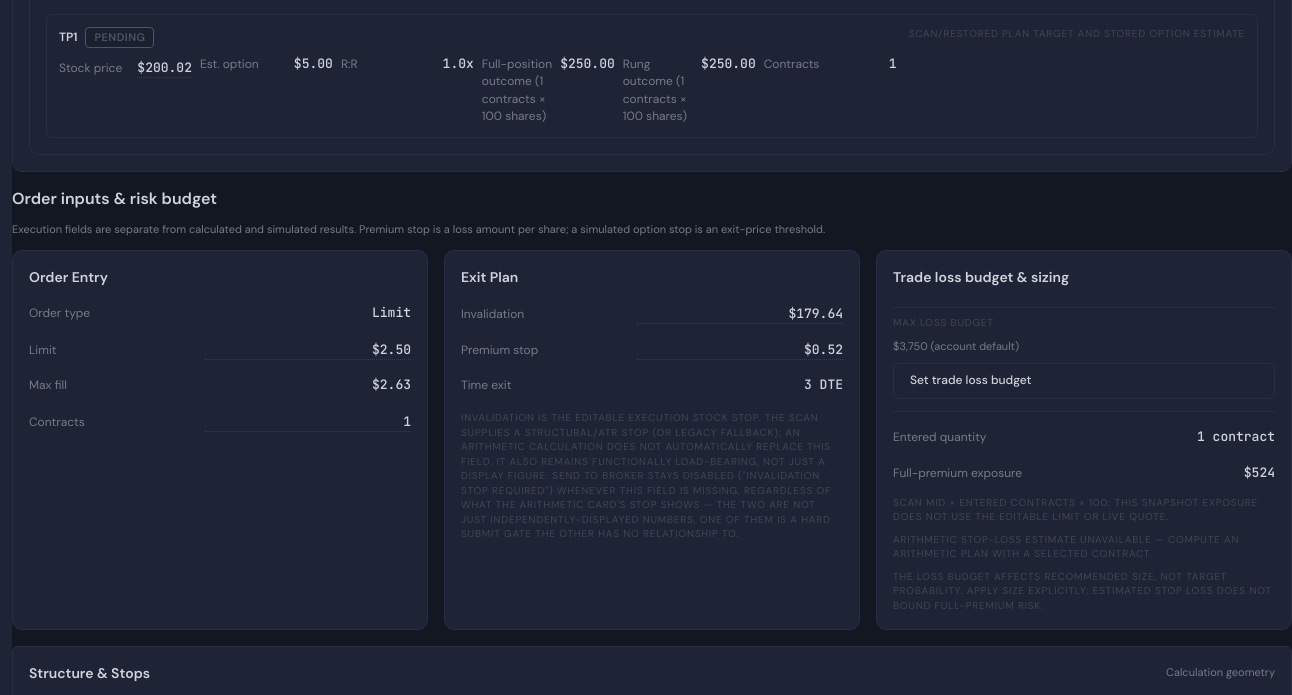
Test: TradeCard › a click into a Premium stop seeded BELOW the field minimum is not an edit either
(page scrolled)
Click the button named "Edit Premium stop" at {"x": 740, "y": 349}, box left=637, top=338, right=843, bottom=360
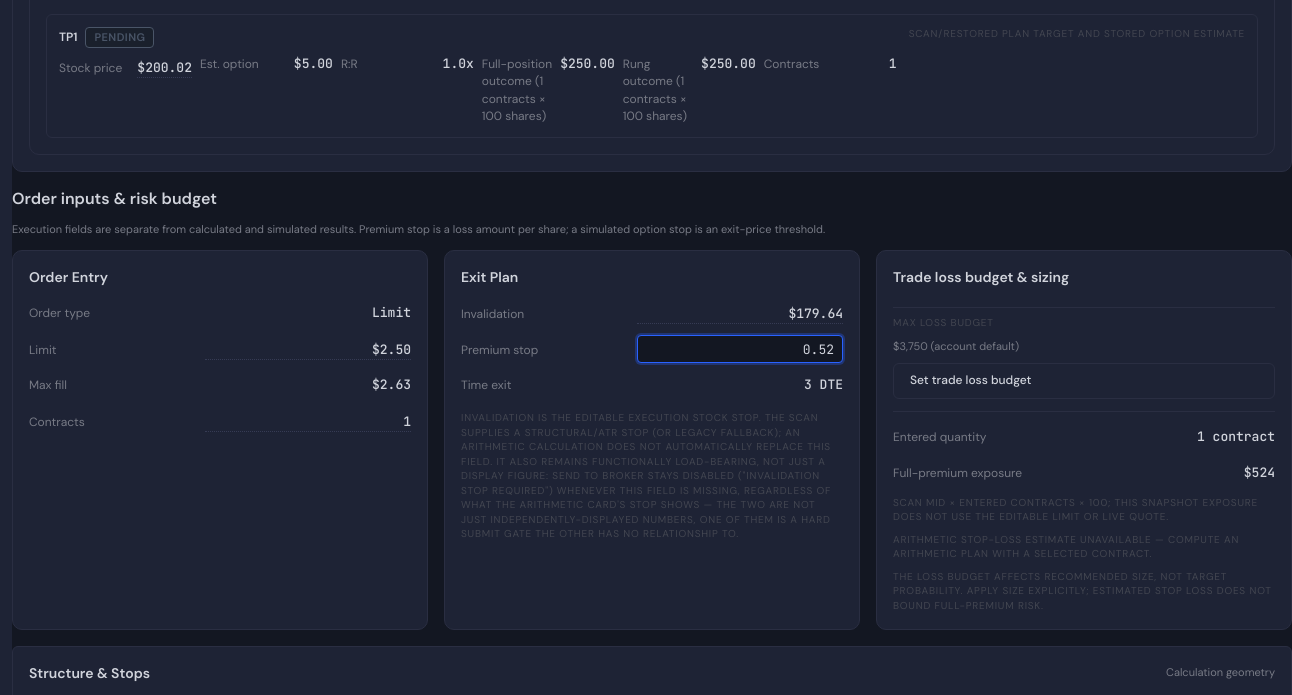
Leave the field named "Edit Premium stop", box left=637, top=335, right=843, bottom=363
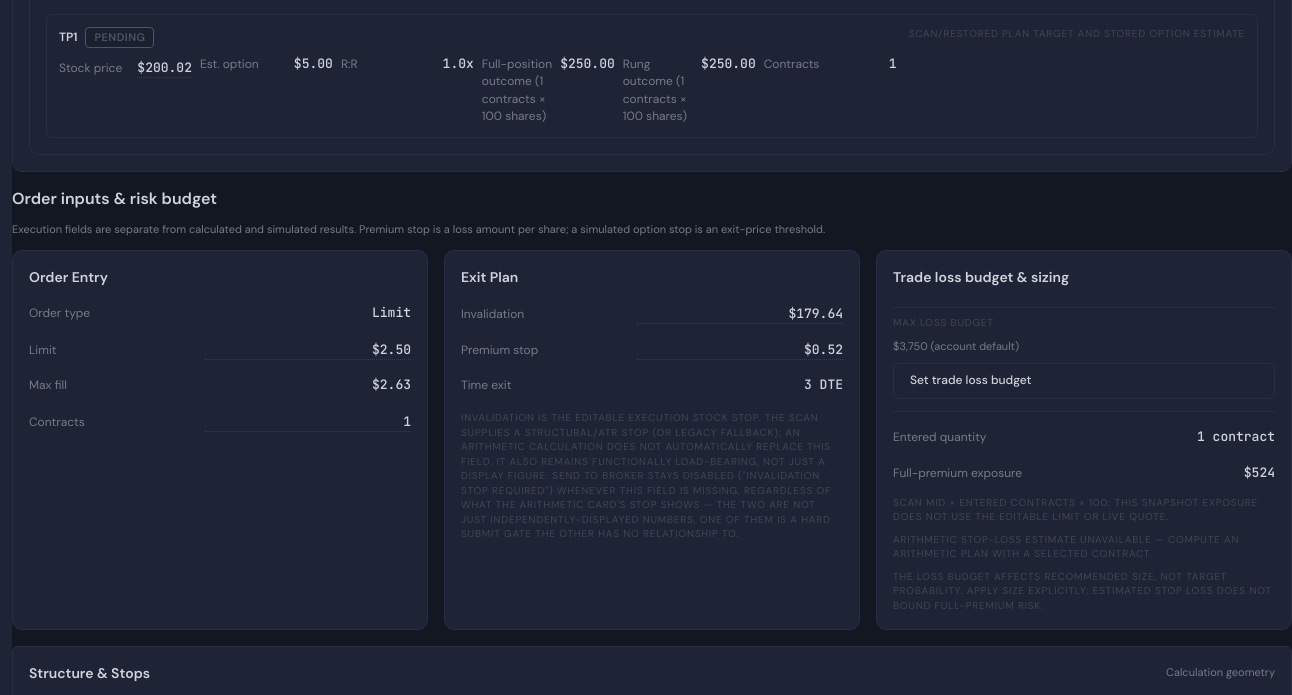
Expected: the text "kept the previous value" is not shown
Click the button named "Edit Premium stop" at {"x": 740, "y": 349}, box left=637, top=338, right=843, bottom=360
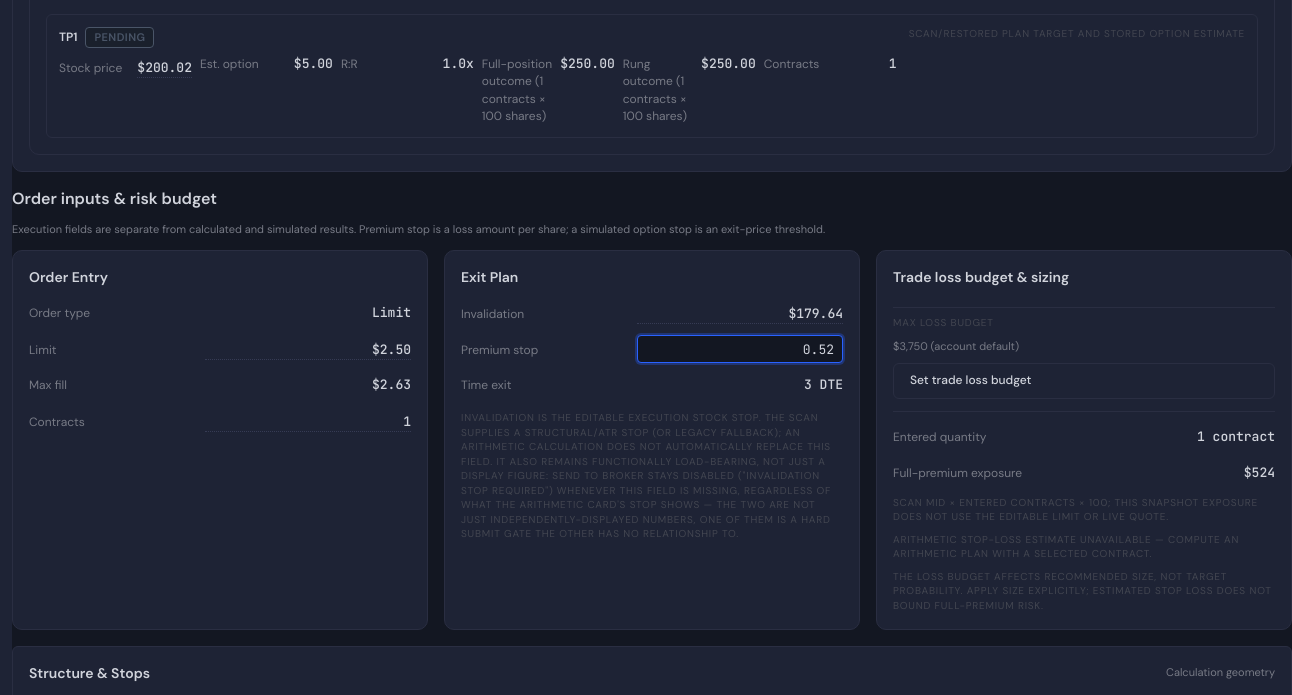
Replace the text in the field named "Edit Premium stop" with "0.10" at {"x": 740, "y": 349}, box left=637, top=335, right=843, bottom=363
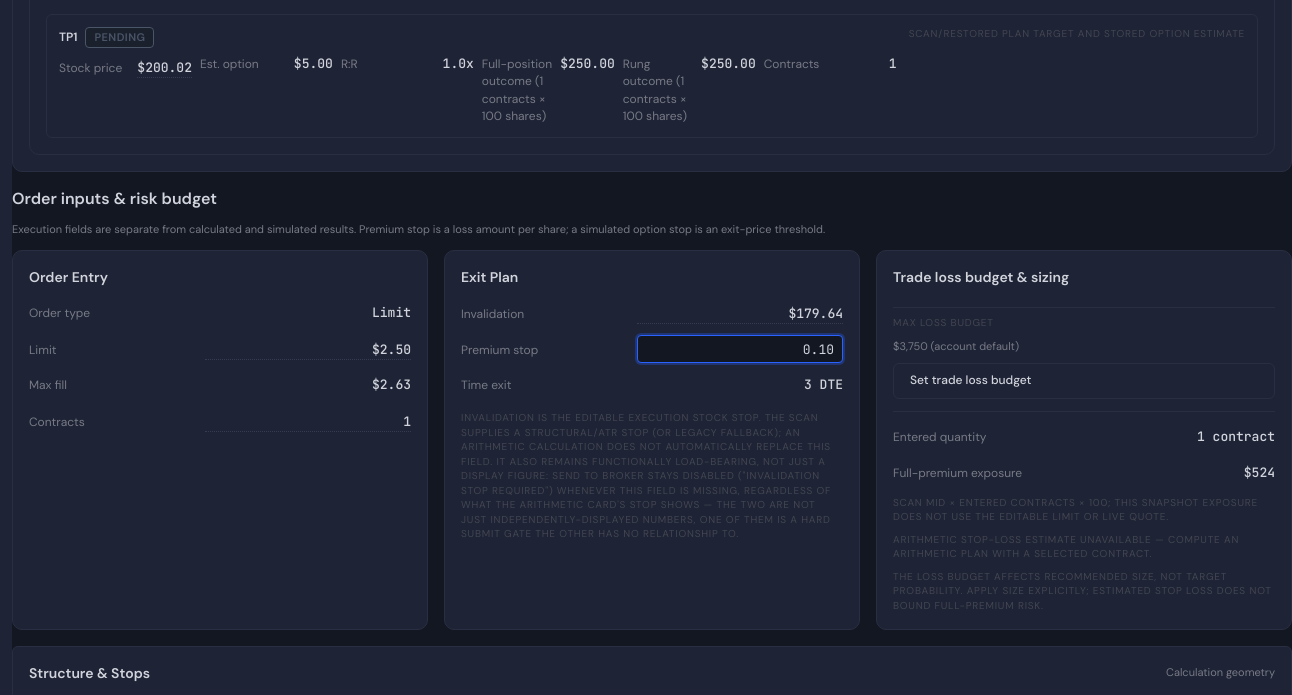
Leave the field named "Edit Premium stop", box left=637, top=335, right=843, bottom=363
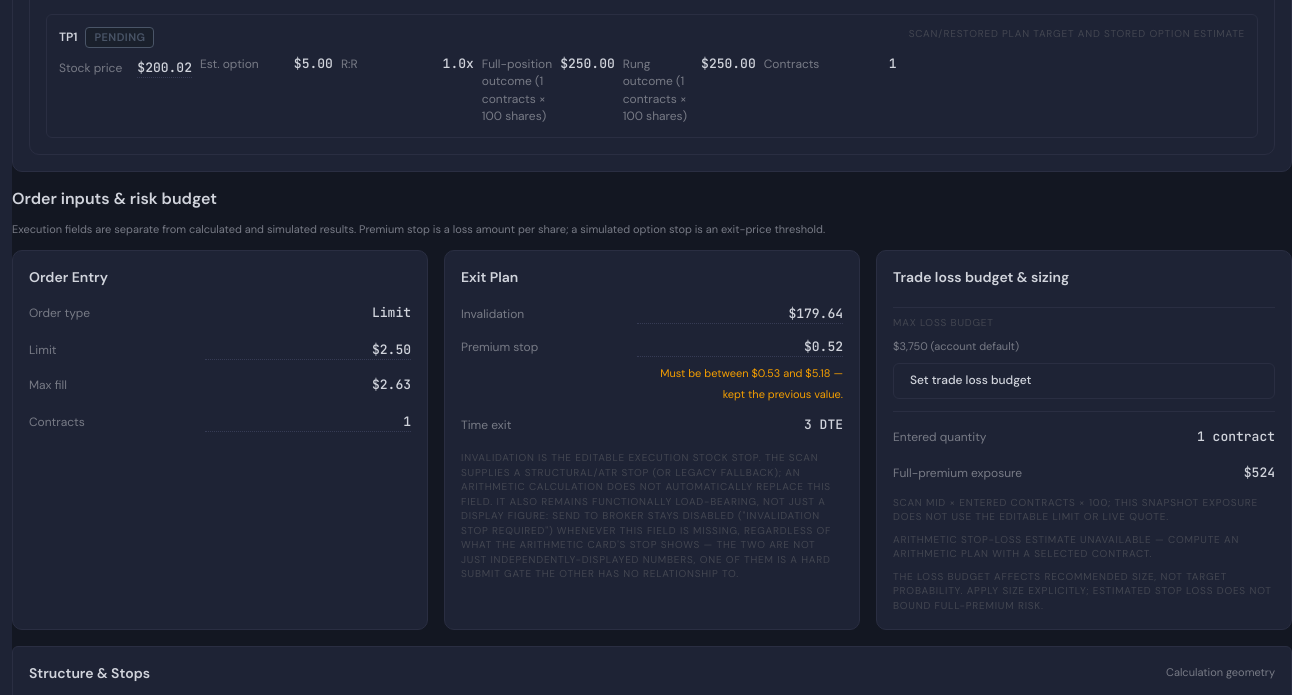
Now the text "Must be between $0.53 and $5.18 — kept the previous value." is shown, box left=660, top=366, right=843, bottom=401
